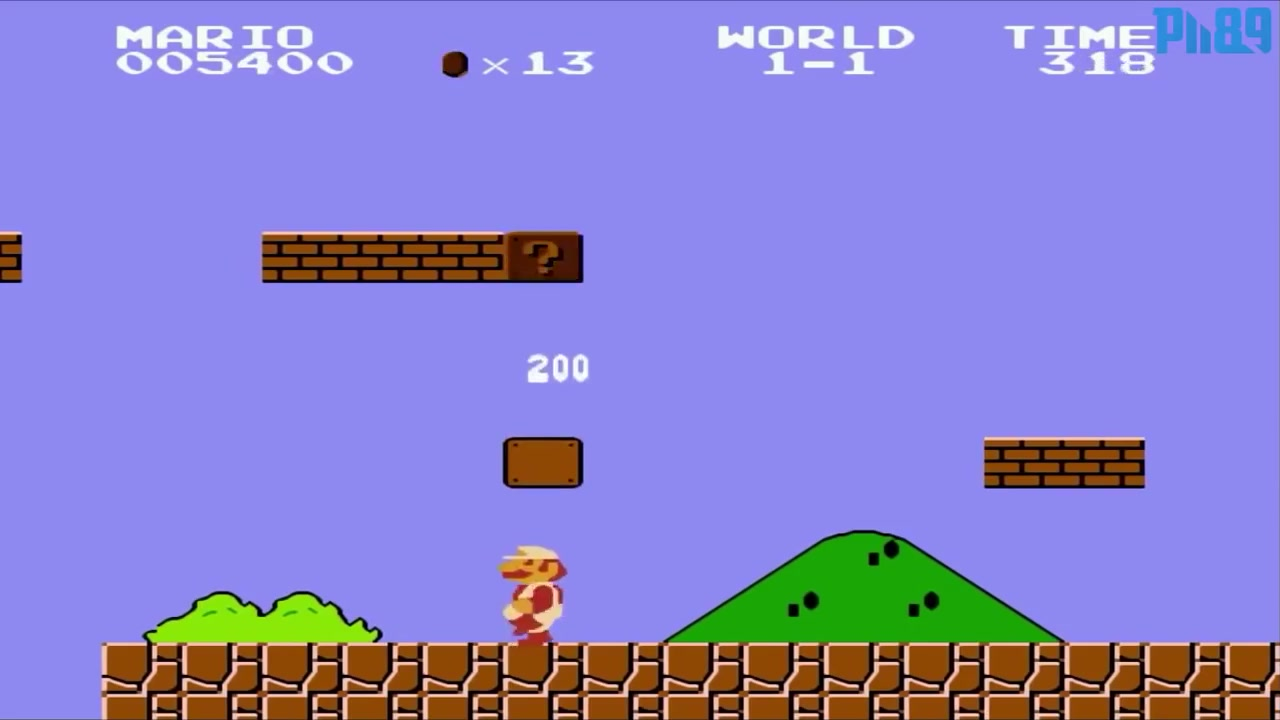mario: (489, 540, 567, 651)
